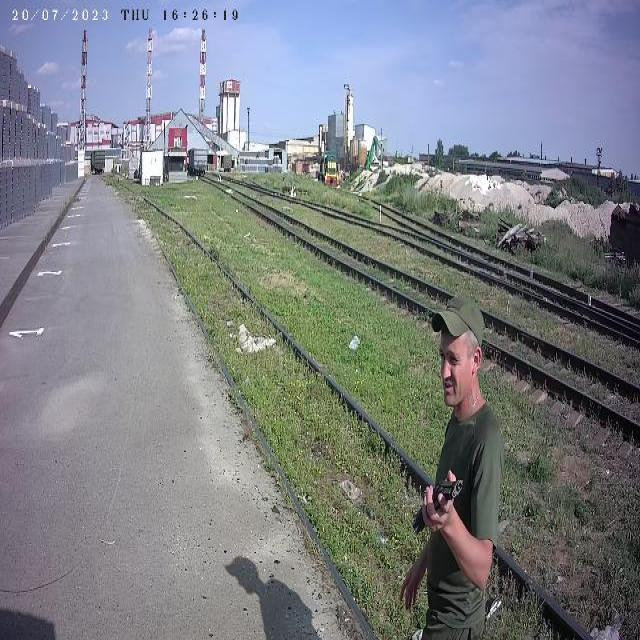pistol: (416, 468, 466, 524)
